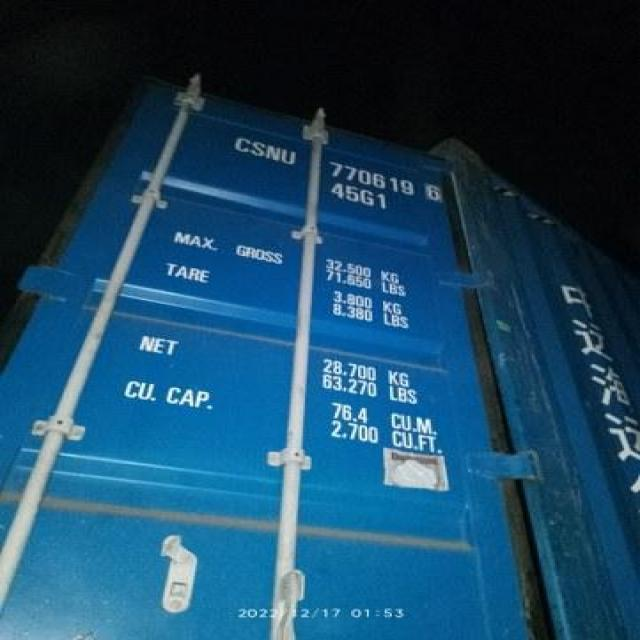container_number_h: (215, 115, 462, 230)
